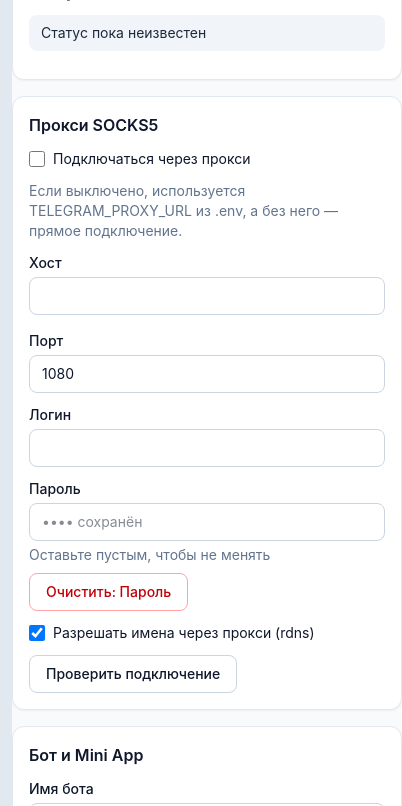
Scenario: настройки прокси › разрешает сохранить только после успешной проверки тех же значений
Type "proxy.example" into the field labelled "Хост" at (207, 296), box x1=29 y1=277 x2=385 y2=315
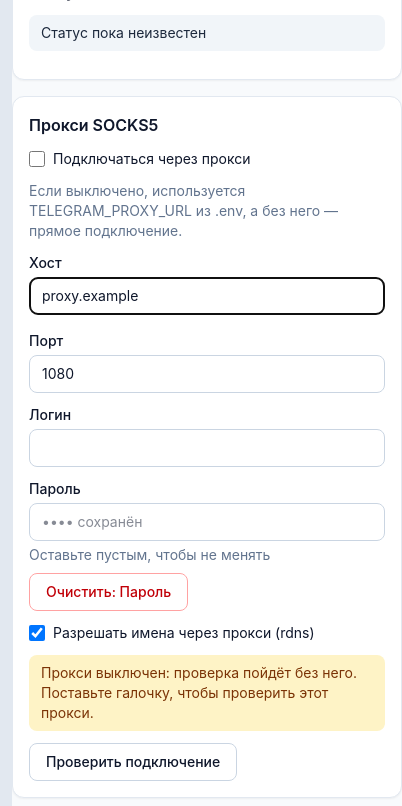
Click the button "Проверить подключение" at (133, 762), box x1=29 y1=743 x2=237 y2=781
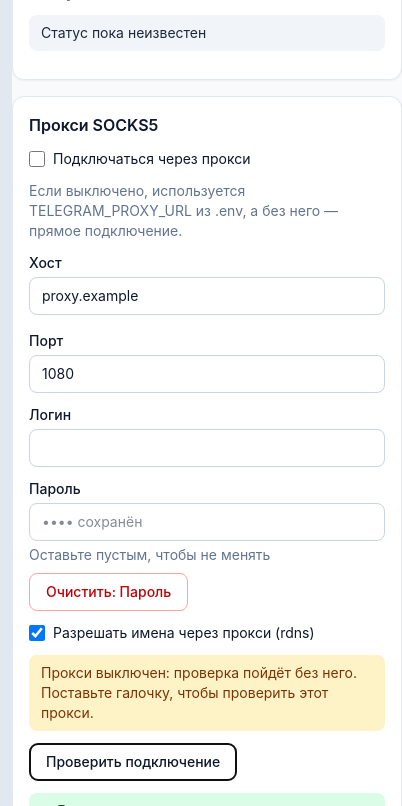
Type "2" into the field labelled "Хост" at (207, 296), box x1=29 y1=277 x2=385 y2=315
(page scrolled)
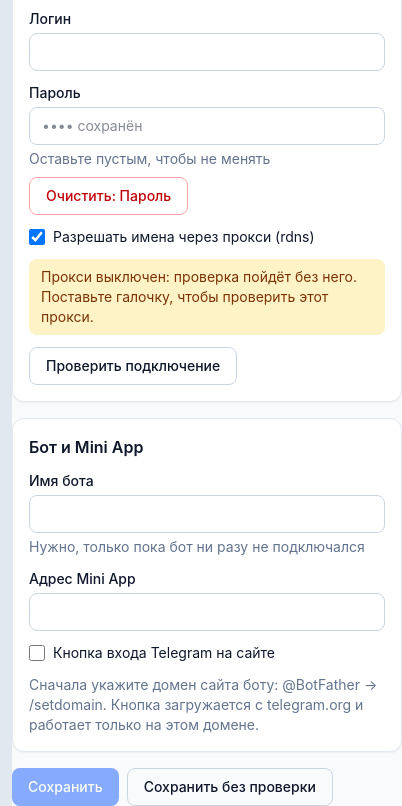
Now the button "Сохранить" is disabled, box x1=12 y1=768 x2=119 y2=805
